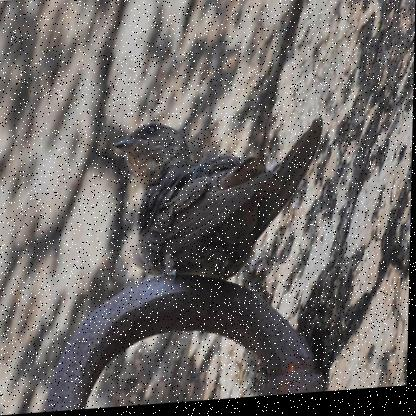Burung: (112, 116, 323, 290)
